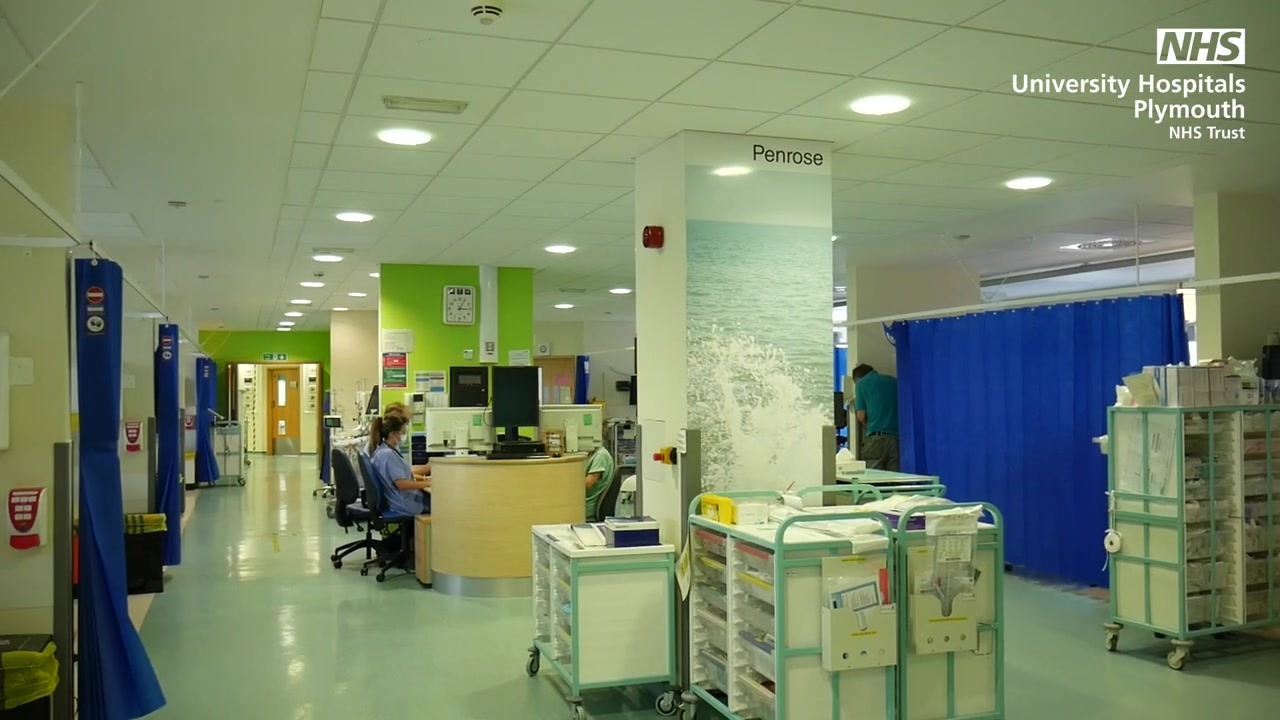chair: (358, 451, 415, 582), (330, 446, 381, 569)
computer: (426, 407, 496, 452), (537, 404, 602, 451), (492, 366, 539, 427)
counter: (429, 454, 586, 599)
curtain: (74, 259, 166, 720), (154, 324, 181, 565), (196, 357, 220, 481), (574, 356, 590, 404)
dispenser: (6, 486, 46, 551), (123, 421, 144, 452)
medical_drawer: (883, 294, 1189, 587), (677, 490, 894, 720), (796, 483, 1003, 720), (1104, 404, 1280, 670), (526, 523, 678, 720)
staff: (371, 412, 431, 516), (852, 363, 899, 472), (363, 402, 431, 475), (585, 437, 613, 517)
telephone: (404, 392, 425, 414)
utility_cart: (210, 421, 246, 486)
waste_bin: (1, 634, 60, 720), (124, 513, 167, 595)
